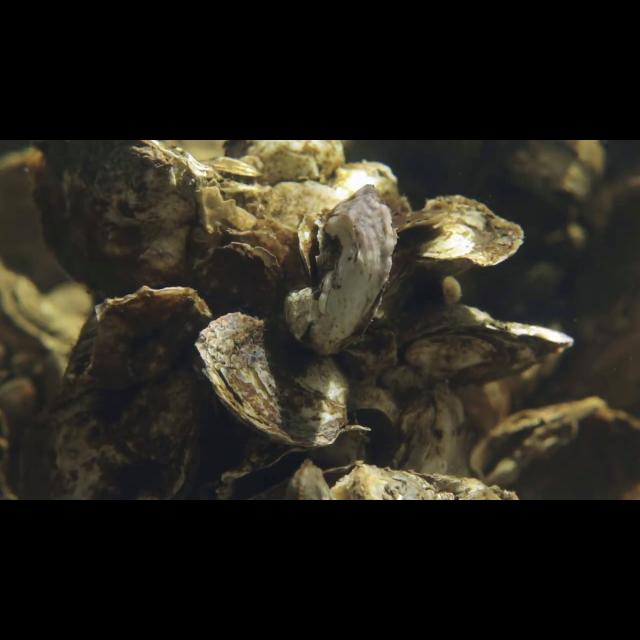Oyster-Closed: (28, 140, 238, 304), (55, 284, 213, 500), (194, 311, 350, 447), (282, 182, 398, 356), (384, 193, 526, 303), (386, 384, 470, 481), (186, 241, 286, 319)
Oyster-Open: (401, 304, 575, 388), (469, 396, 609, 484), (216, 422, 370, 500)
